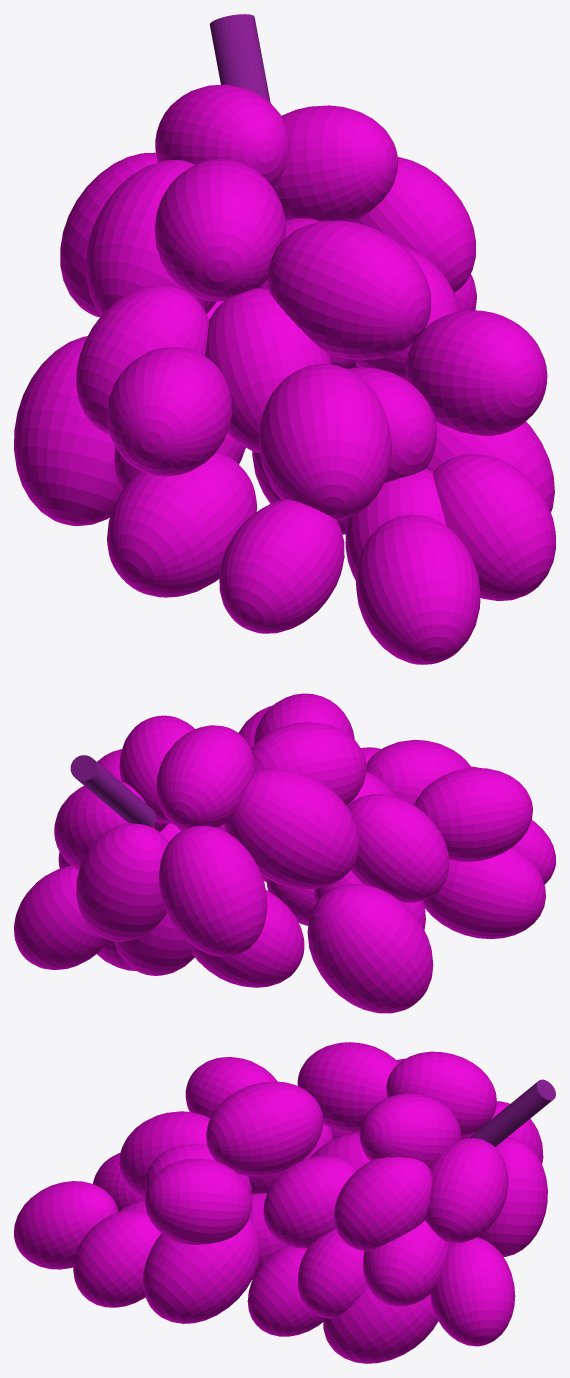
The model's file is grapes(1).fbx.
3 renders of one model, top to bottom at view 1: azimuth 30°, elevation 25°; view 2: azimuth 150°, elevation 25°; view 3: azimuth 270°, elevation 25°, orthographic. The views are drawn at different scales.
Parts seen in each view (by area): view 1: Cylinder; view 2: Cylinder; view 3: Cylinder.
Boxes of the visible parts, x1,y1,x2,y2 form: Cylinder: (14, 14, 555, 664); Cylinder: (14, 693, 555, 1013); Cylinder: (14, 1042, 555, 1363).
Size of the model in its own units: 781 by 567 by 1070.
